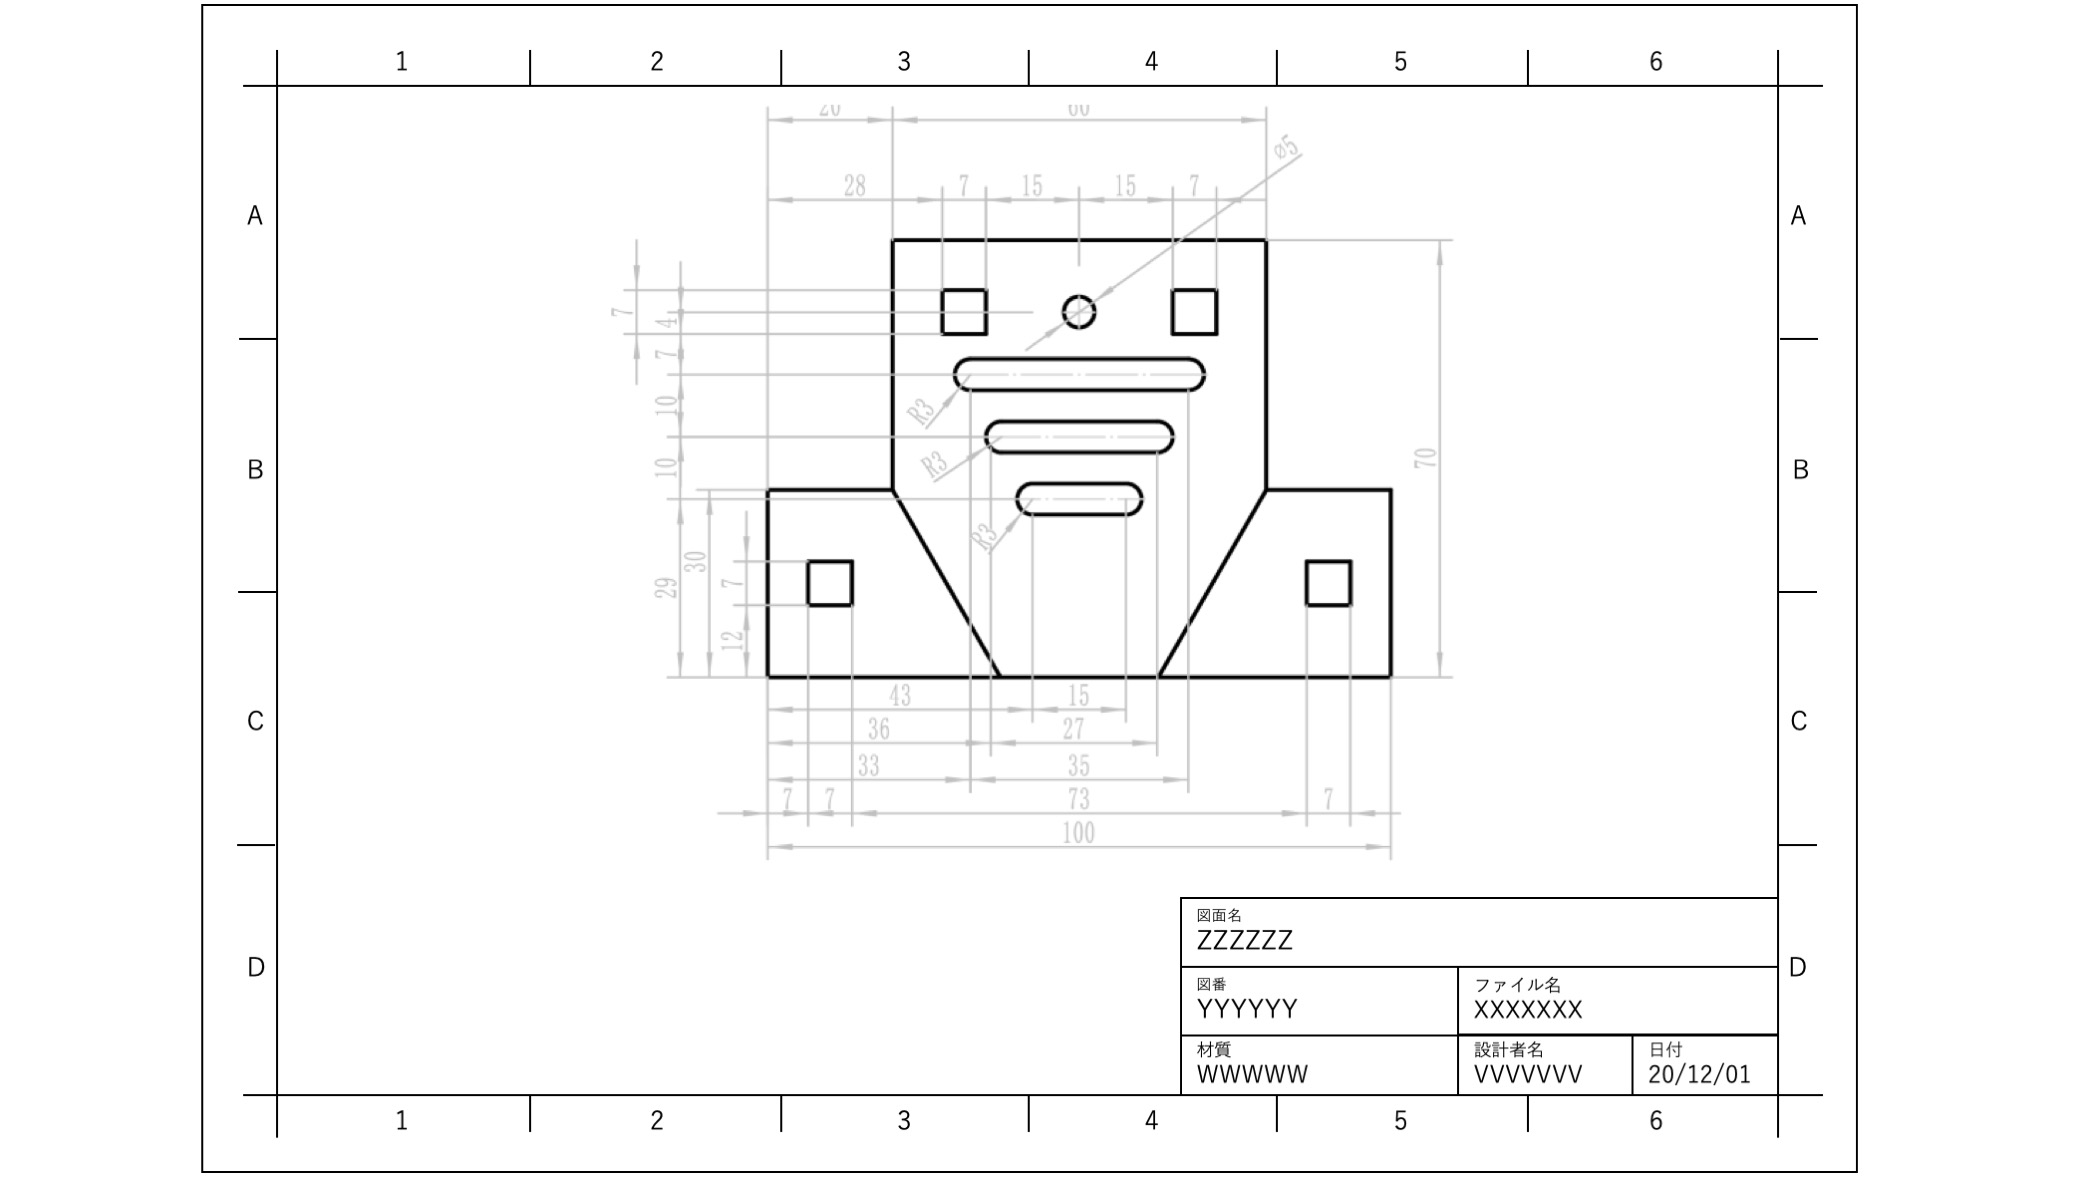circle: (1054, 291, 1098, 332)
rectangle: (1160, 278, 1232, 345), (1295, 548, 1359, 614), (800, 549, 861, 616), (933, 278, 991, 339)
round_rectangle: (950, 350, 1214, 402), (974, 412, 1181, 463), (1010, 474, 1162, 526)
